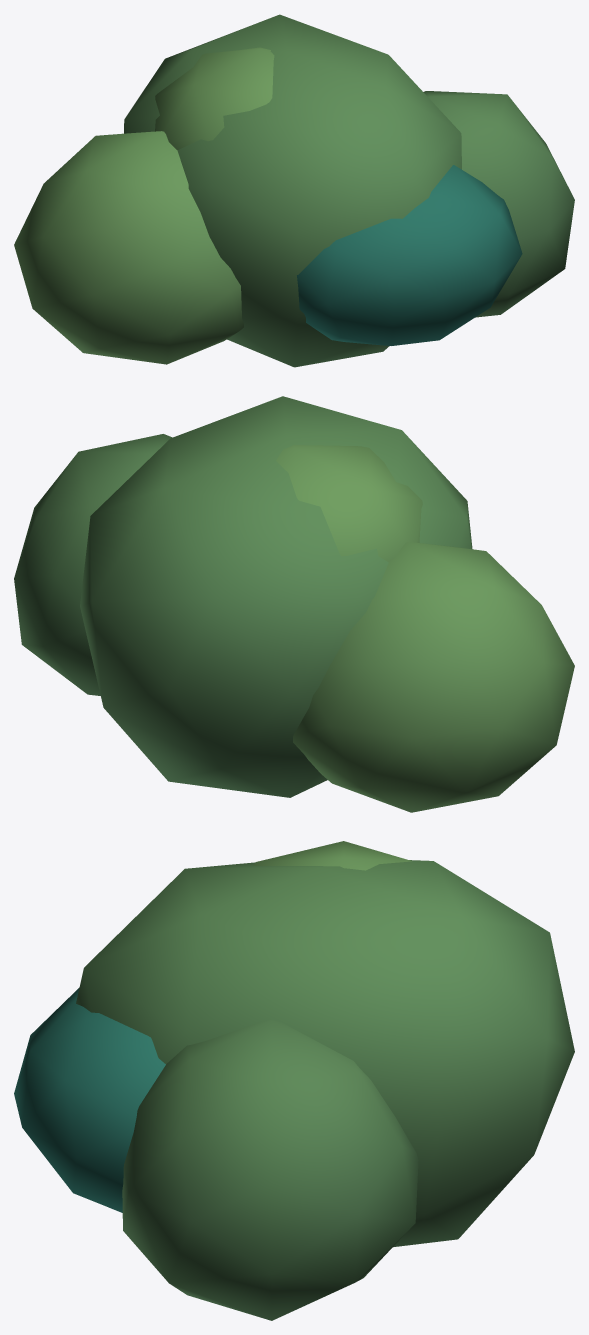
The model's file is bush_b.glb.
3 renders of one model, top to bottom at view 1: azimuth 30°, elevation 25°; view 2: azimuth 150°, elevation 25°; view 3: azimuth 270°, elevation 25°, orthographic. The views are drawn at different scales.
Parts seen in each view (by area): view 1: bush_b; view 2: bush_b; view 3: bush_b.
Part boxes in pixels (x1=…): bush_b: x1=14, y1=14, x2=574, y2=367; bush_b: x1=14, y1=396, x2=574, y2=812; bush_b: x1=14, y1=841, x2=574, y2=1320.
Size of the model in its own units: 2.09 by 1.19 by 1.64.
